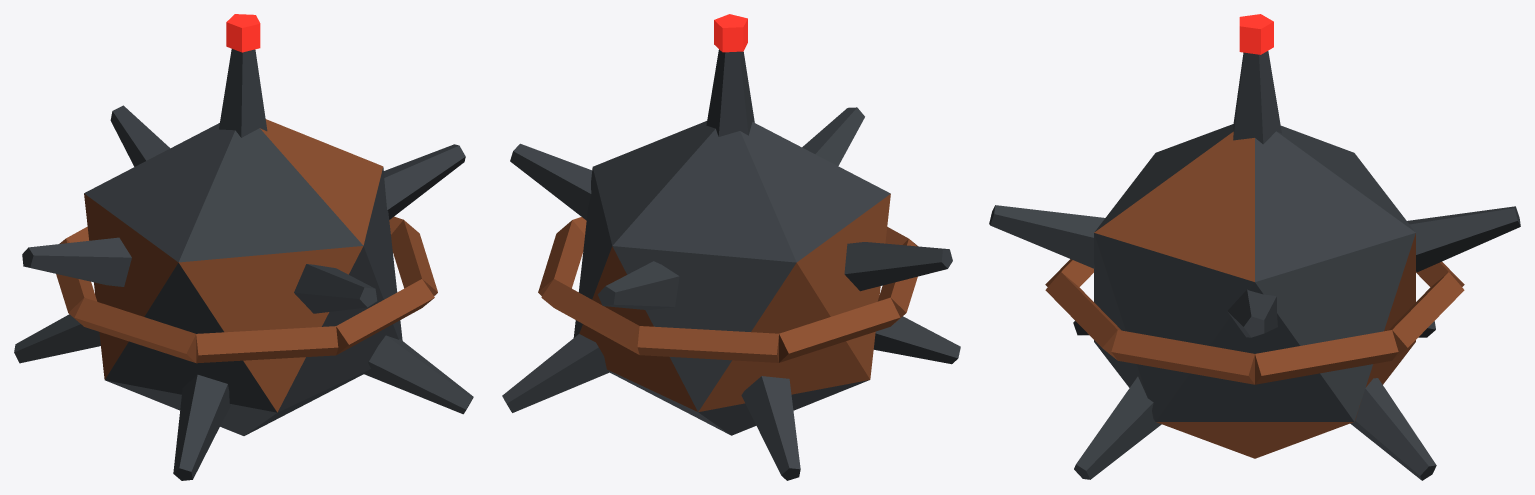
Rendered from mine.glb.
3 views of the same model, side by side, from view 1: azimuth 30°, elevation 25°; view 2: azimuth 150°, elevation 25°; view 3: azimuth 270°, elevation 25° (orthographic). The views are drawn at different scales.
Visible parts, largest first — view 1: mine_mesh, mine_ring; view 2: mine_mesh, mine_ring; view 3: mine_mesh, mine_ring.
Boxes of the visible parts, <box> form: mine_mesh: <box>14,14,473,480</box>; mine_ring: <box>56,216,437,363</box>; mine_mesh: <box>502,14,960,480</box>; mine_ring: <box>538,217,917,362</box>; mine_mesh: <box>989,14,1520,480</box>; mine_ring: <box>1045,259,1464,384</box>.
Size of the model in its own units: 0.5621 by 0.51 by 0.5621.
